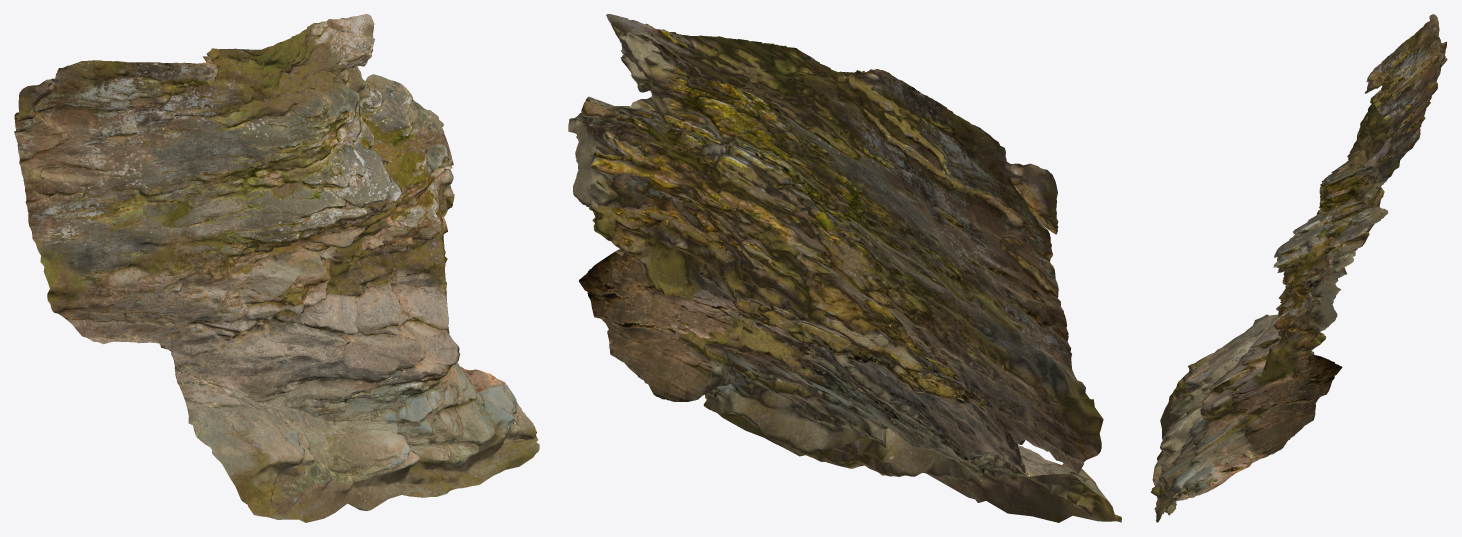
The model's file is rock_face_02_4k.fbx.
3 views of the same model, side by side, from view 1: azimuth 30°, elevation 25°; view 2: azimuth 150°, elevation 25°; view 3: azimuth 270°, elevation 25° (orthographic). The views are drawn at different scales.
Visible parts, largest first — view 1: rock_face_02; view 2: rock_face_02; view 3: rock_face_02.
Part boxes in pixels (x1,y1,x2,y2): rock_face_02: (14, 14, 539, 522); rock_face_02: (568, 14, 1121, 522); rock_face_02: (1150, 14, 1447, 522).
Size of the model in its own units: 487 by 473 by 347.
1 material, 1 textured.
